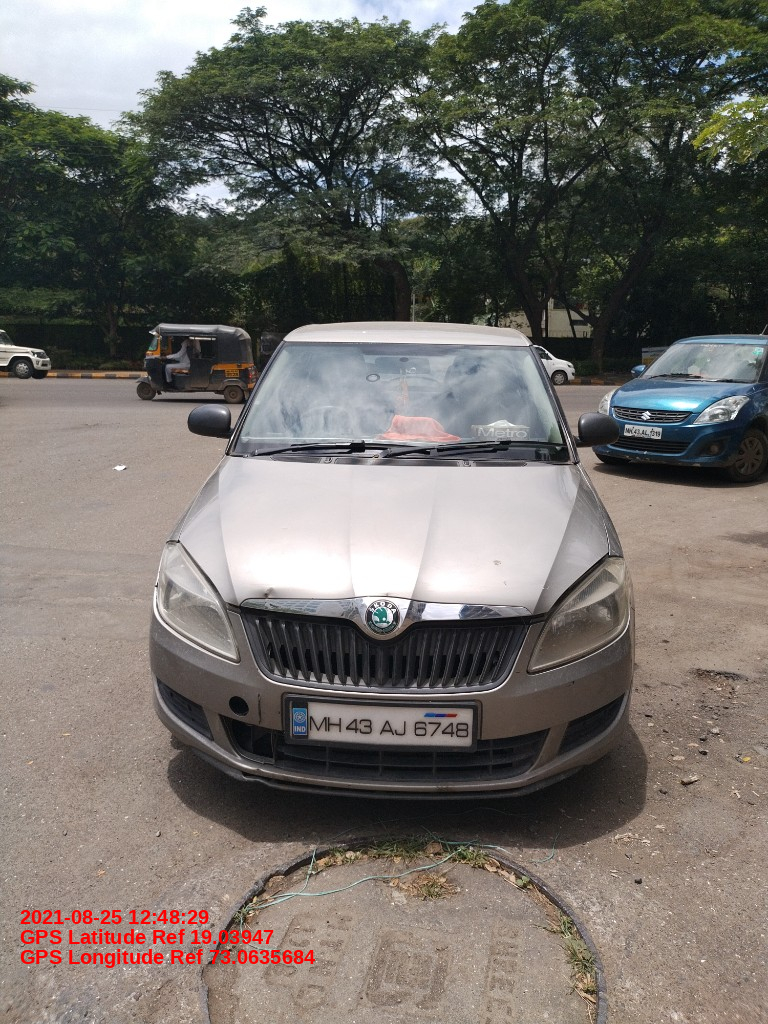Broken: (222, 718, 285, 771), (225, 690, 256, 720)
Pressed: (251, 578, 297, 609), (236, 769, 285, 787)
